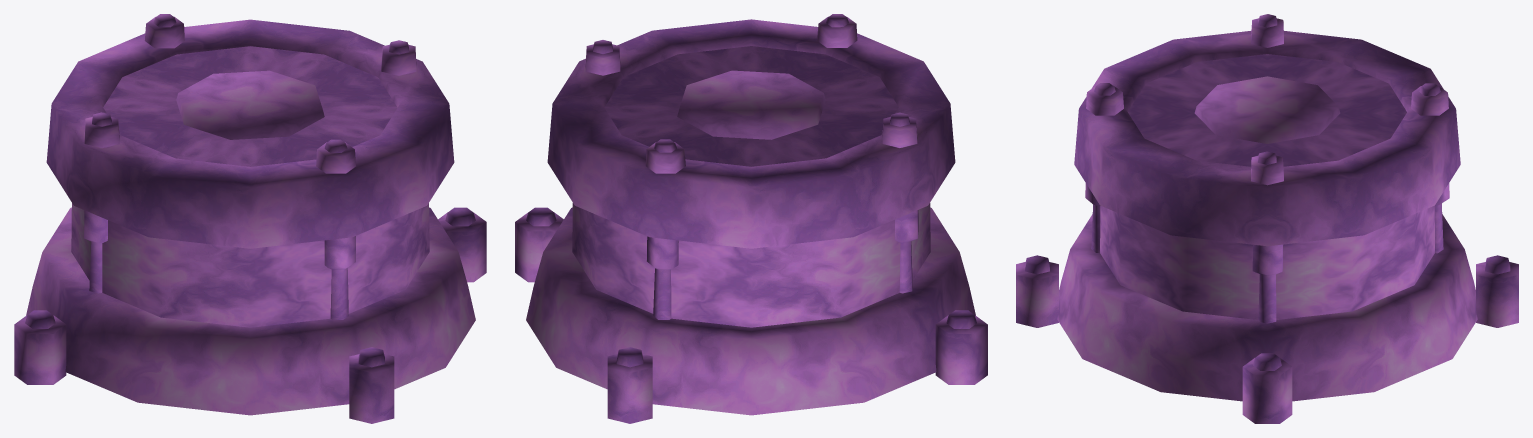
File: etheriala.obj
3 views of the same model, side by side, from view 1: azimuth 30°, elevation 25°; view 2: azimuth 150°, elevation 25°; view 3: azimuth 270°, elevation 25° (orthographic). The views are drawn at different scales.
Parts seen in each view (by area): view 1: world/expansion06/doodads/ethereal/7et_ethereal_voidforge01.m2_G; view 2: world/expansion06/doodads/ethereal/7et_ethereal_voidforge01.m2_G; view 3: world/expansion06/doodads/ethereal/7et_ethereal_voidforge01.m2_G.
Boxes of the visible parts, x1=… form: world/expansion06/doodads/ethereal/7et_ethereal_voidforge01.m2_G: x1=14, y1=14, x2=486, y2=423; world/expansion06/doodads/ethereal/7et_ethereal_voidforge01.m2_G: x1=515, y1=14, x2=987, y2=423; world/expansion06/doodads/ethereal/7et_ethereal_voidforge01.m2_G: x1=1016, y1=14, x2=1518, y2=423.
Size of the model in its own units: 5.39 by 2.76 by 5.39.
1 material, 1 textured.
